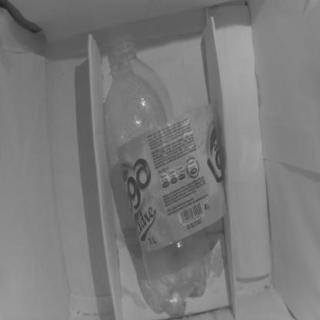plastic_bottles: (98, 26, 212, 316)
